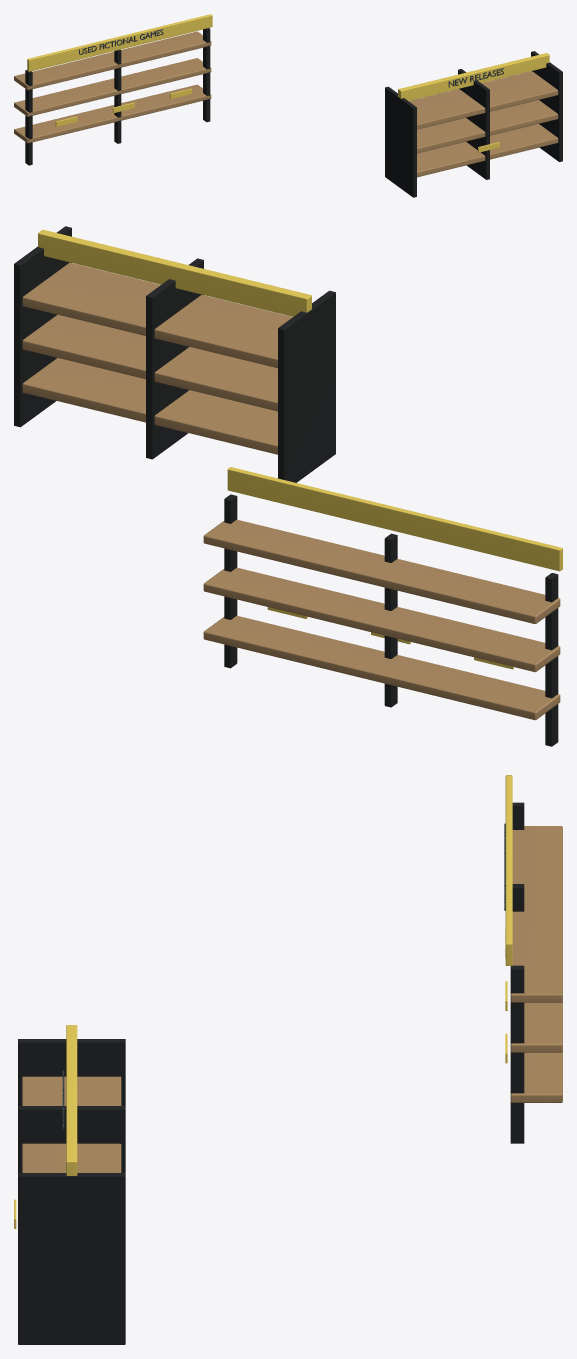
The model's file is starter_shelving_pack.glb.
3 renders of one model, top to bottom at view 1: azimuth 30°, elevation 25°; view 2: azimuth 150°, elevation 25°; view 3: azimuth 270°, elevation 25°, orthographic. The views are drawn at different scales.
Parts seen in each view (by area): view 1: starter_gondola_center_shelf_3, used_wall_shelf_wood_level_3, used_wall_shelf_wood_level_2, starter_gondola_center_shelf_2, starter_gondola_black_post_0.0, starter_gondola_center_shelf_1, used_wall_shelf_wood_level_1, used_wall_shelf_header_strip, starter_gondola_new_release_header, starter_gondola_black_post_2.3, starter_gondola_black_post_1.15, used_wall_shelf_black_upright_-4.0 (+4 smaller); view 2: starter_gondola_center_shelf_3, used_wall_shelf_wood_level_2, used_wall_shelf_wood_level_1, used_wall_shelf_wood_level_3, starter_gondola_center_shelf_1, starter_gondola_center_shelf_2, starter_gondola_black_post_0.0, used_wall_shelf_header_strip, starter_gondola_new_release_header, starter_gondola_black_post_2.3, starter_gondola_black_post_1.15, used_wall_shelf_black_upright_-4.0 (+2 smaller); view 3: starter_gondola_black_post_2.3, used_wall_shelf_wood_level_3, starter_gondola_center_shelf_3, starter_gondola_black_post_0.0, starter_gondola_black_post_1.15, used_wall_shelf_black_upright_-1.2, used_wall_shelf_wood_level_1, used_wall_shelf_wood_level_2, starter_gondola_new_release_header, used_wall_shelf_header_strip.
Boxes of the visible parts, box(x1,y1,x2,y2) form: starter_gondola_center_shelf_3: box(409, 71, 558, 129); used_wall_shelf_wood_level_3: box(14, 31, 211, 90); used_wall_shelf_wood_level_2: box(14, 58, 211, 116); starter_gondola_center_shelf_2: box(417, 100, 558, 153); starter_gondola_black_post_0.0: box(385, 86, 416, 197); starter_gondola_center_shelf_1: box(417, 124, 558, 177); used_wall_shelf_wood_level_1: box(14, 84, 211, 143); used_wall_shelf_header_strip: box(27, 14, 212, 71); starter_gondola_new_release_header: box(398, 53, 549, 100); starter_gondola_black_post_2.3: box(531, 51, 562, 161); starter_gondola_black_post_1.15: box(458, 69, 489, 179); used_wall_shelf_black_upright_-4.0: box(25, 70, 32, 165); starter_gondola_center_shelf_3: box(22, 262, 292, 368); used_wall_shelf_wood_level_2: box(203, 567, 560, 672); used_wall_shelf_wood_level_1: box(203, 615, 560, 720); used_wall_shelf_wood_level_3: box(203, 519, 560, 623); starter_gondola_center_shelf_1: box(22, 358, 277, 454); starter_gondola_center_shelf_2: box(22, 314, 277, 411); starter_gondola_black_post_0.0: box(278, 290, 335, 482); used_wall_shelf_header_strip: box(227, 467, 562, 571); starter_gondola_new_release_header: box(38, 229, 311, 316); starter_gondola_black_post_2.3: box(14, 226, 71, 427); starter_gondola_black_post_1.15: box(146, 258, 203, 459); used_wall_shelf_black_upright_-4.0: box(545, 573, 558, 746); starter_gondola_black_post_2.3: box(18, 1173, 125, 1344); used_wall_shelf_wood_level_3: box(510, 826, 562, 1002); starter_gondola_center_shelf_3: box(22, 1076, 121, 1172); starter_gondola_black_post_0.0: box(18, 1039, 125, 1105); starter_gondola_black_post_1.15: box(18, 1106, 125, 1172); used_wall_shelf_black_upright_-1.2: box(510, 965, 524, 1143); used_wall_shelf_wood_level_1: box(510, 1052, 562, 1102); used_wall_shelf_wood_level_2: box(510, 1002, 562, 1052); starter_gondola_new_release_header: box(66, 1025, 77, 1175); used_wall_shelf_header_strip: box(505, 775, 512, 965).
Size of the model in its own units: 6.38 by 1.61 by 3.98.
